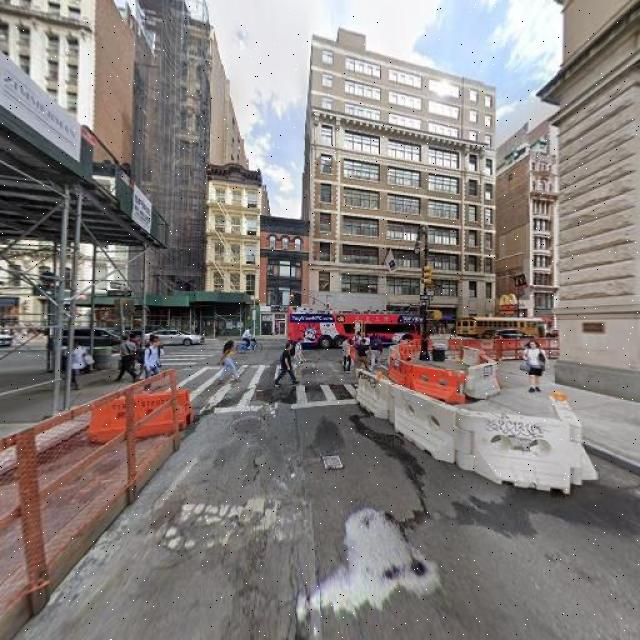Building: (314, 47, 494, 334), (567, 1, 640, 409), (143, 7, 207, 335), (210, 169, 260, 335), (263, 218, 312, 334)
